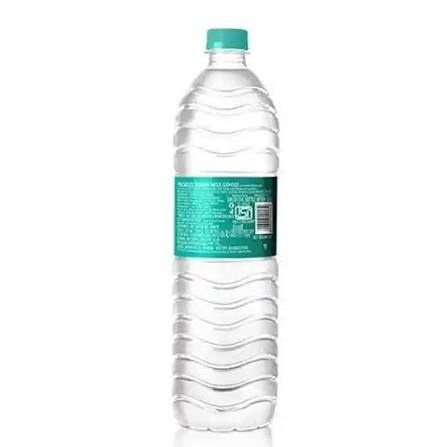Bisleri-water: (166, 24, 285, 447)
